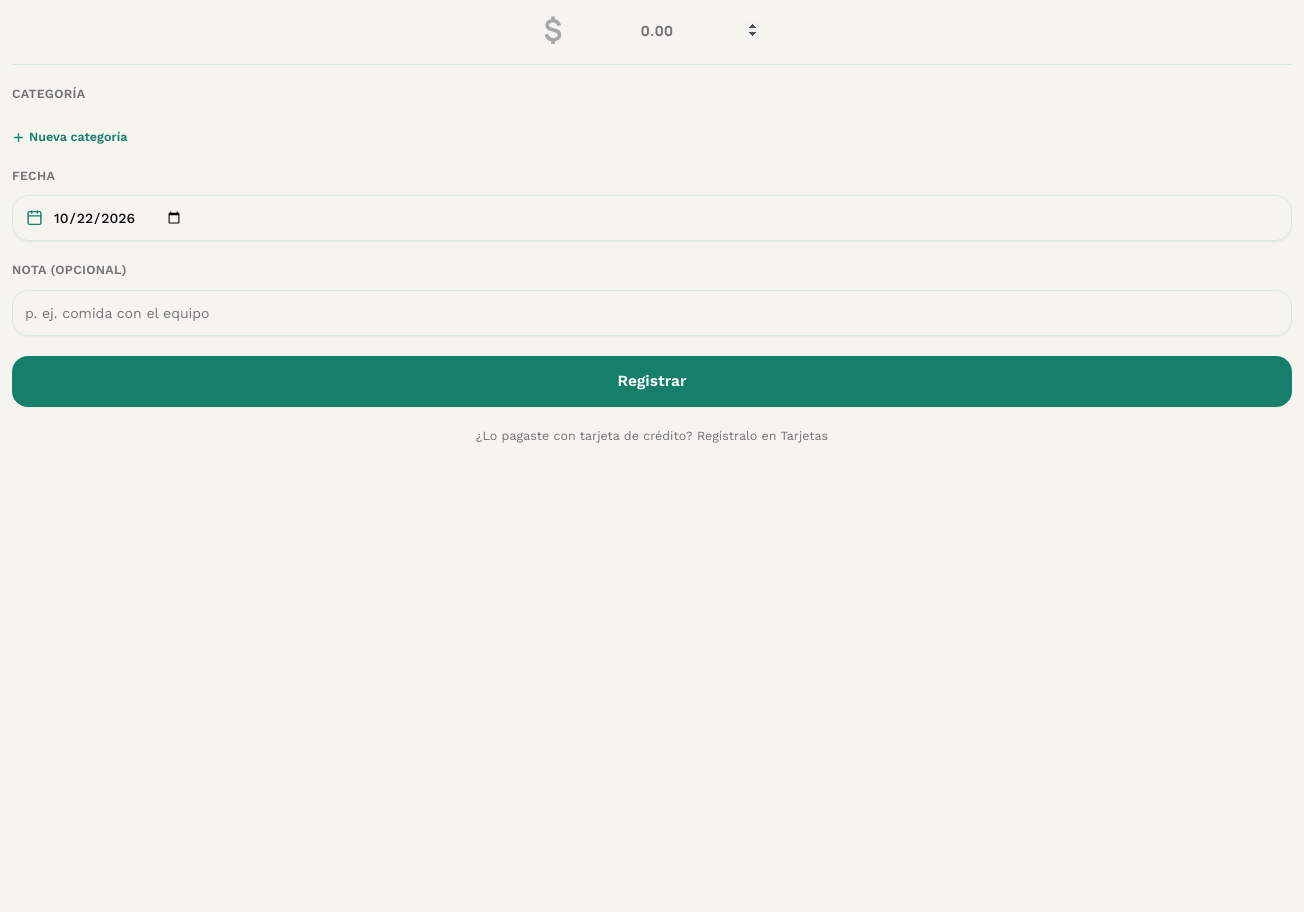
it: FormularioGasto — pista de la guía sobre los atajos › al guardar el atajo la pista se da por leída
This screenshot has width=1304, height=912.
Type "55" into the number field named "¿Cuánto gastaste?".
click(664, 30); type("55")  # box [568,20,760,40]
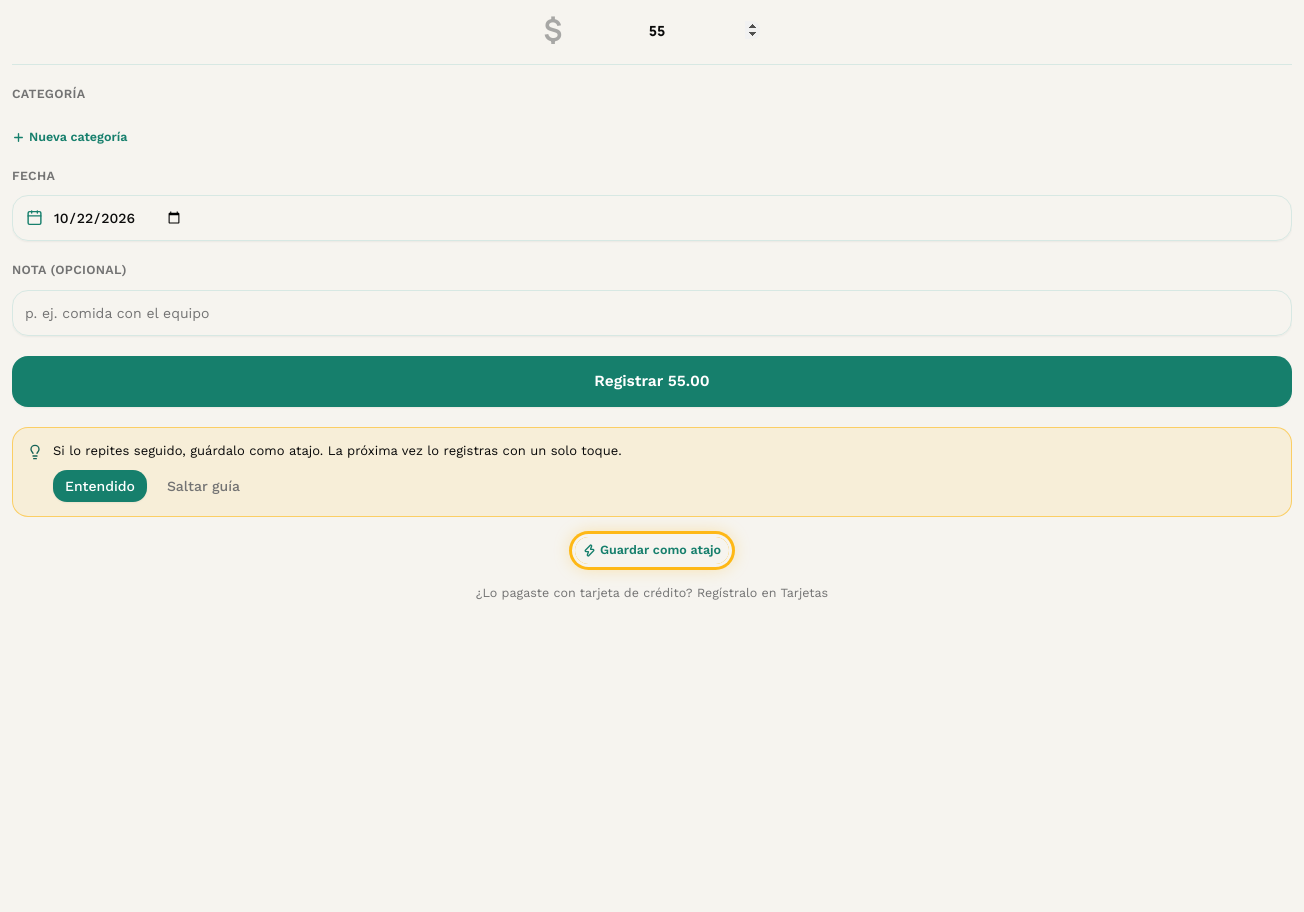
Click the button "Guardar como atajo".
click(652, 551)  # box [583,541,721,560]
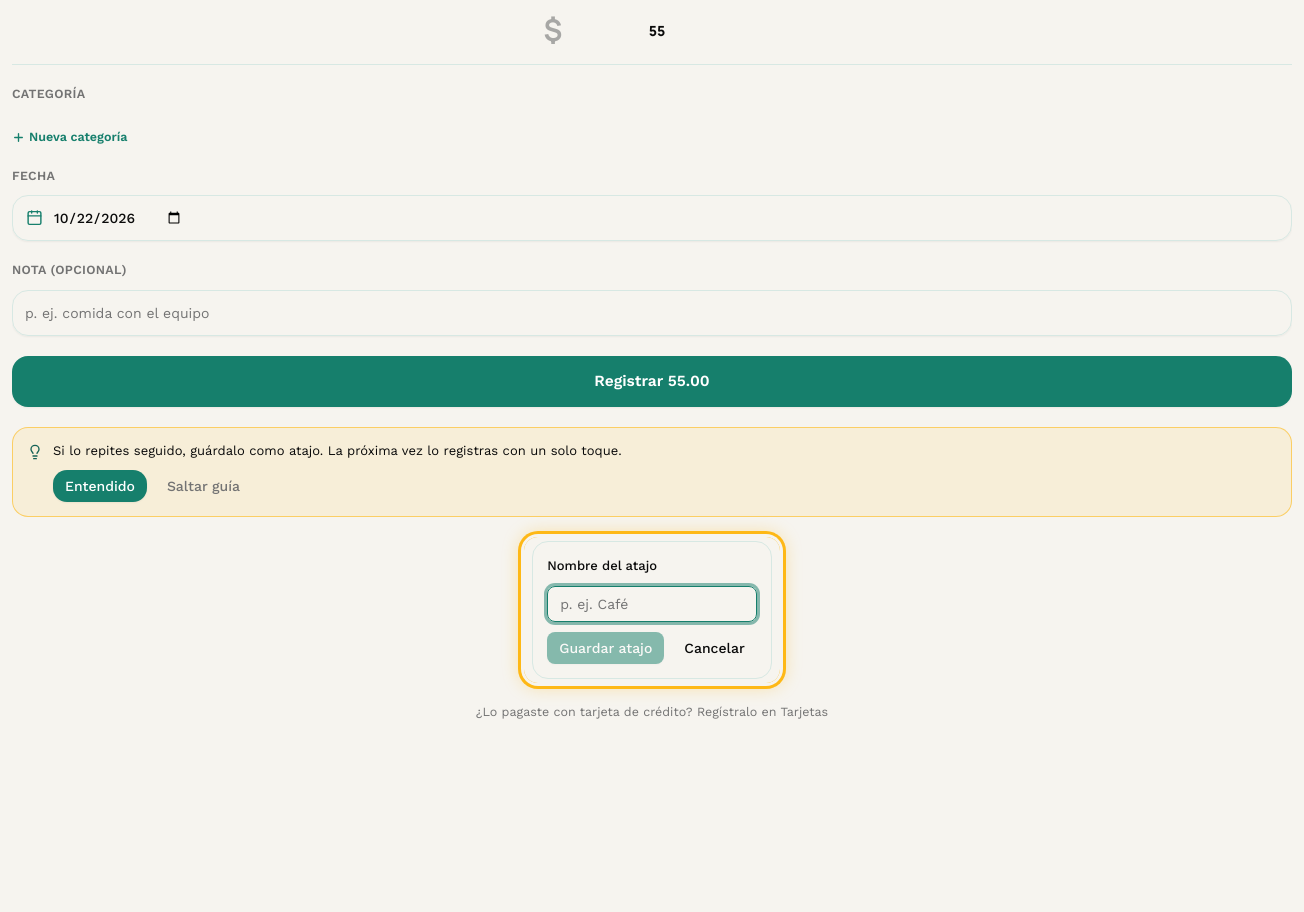
Type "Café" into the field labelled "Nombre del atajo".
click(652, 604); type("Café")  # box [547,586,757,622]
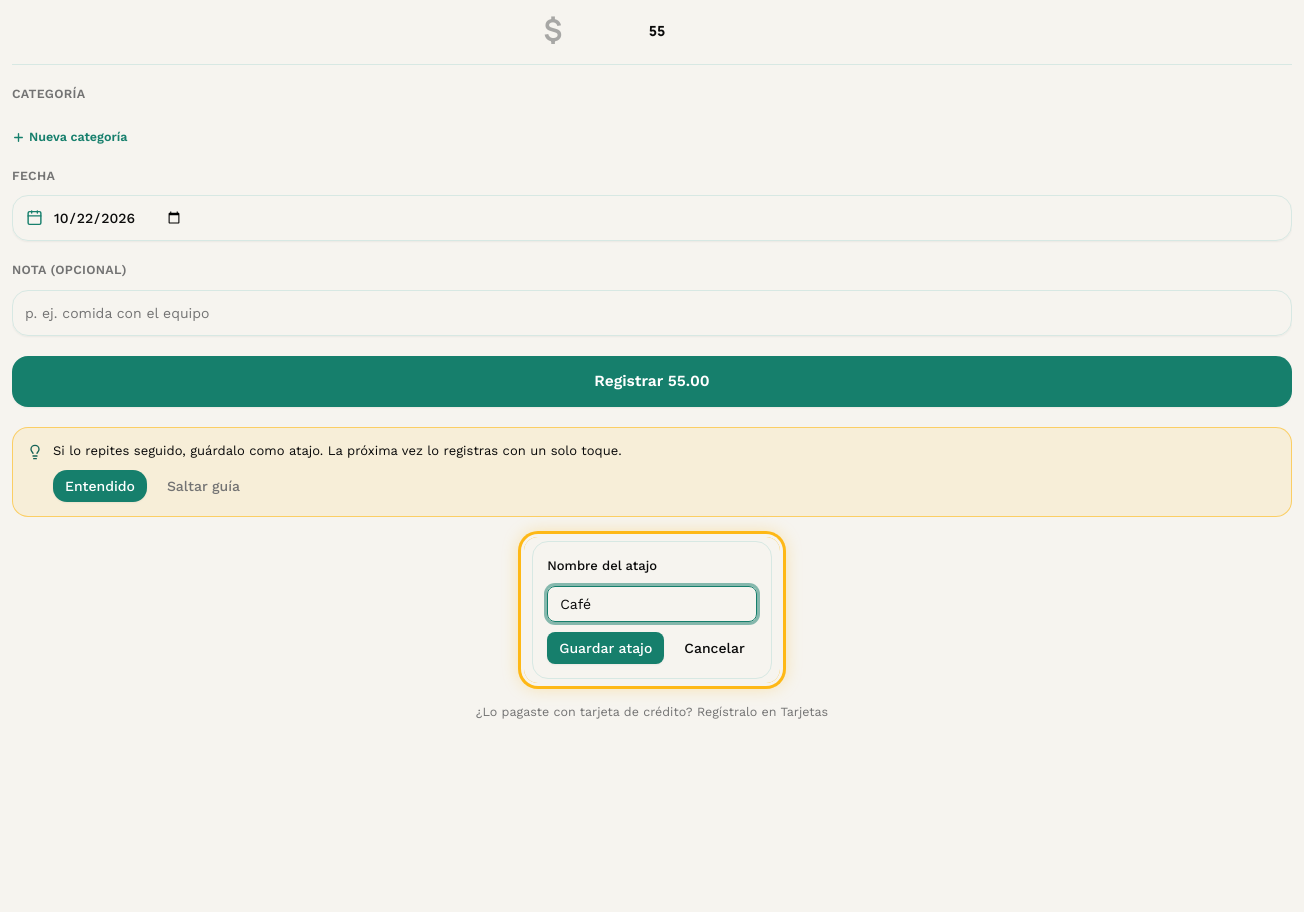
Click the button "Guardar atajo".
click(606, 648)  # box [547,632,664,664]
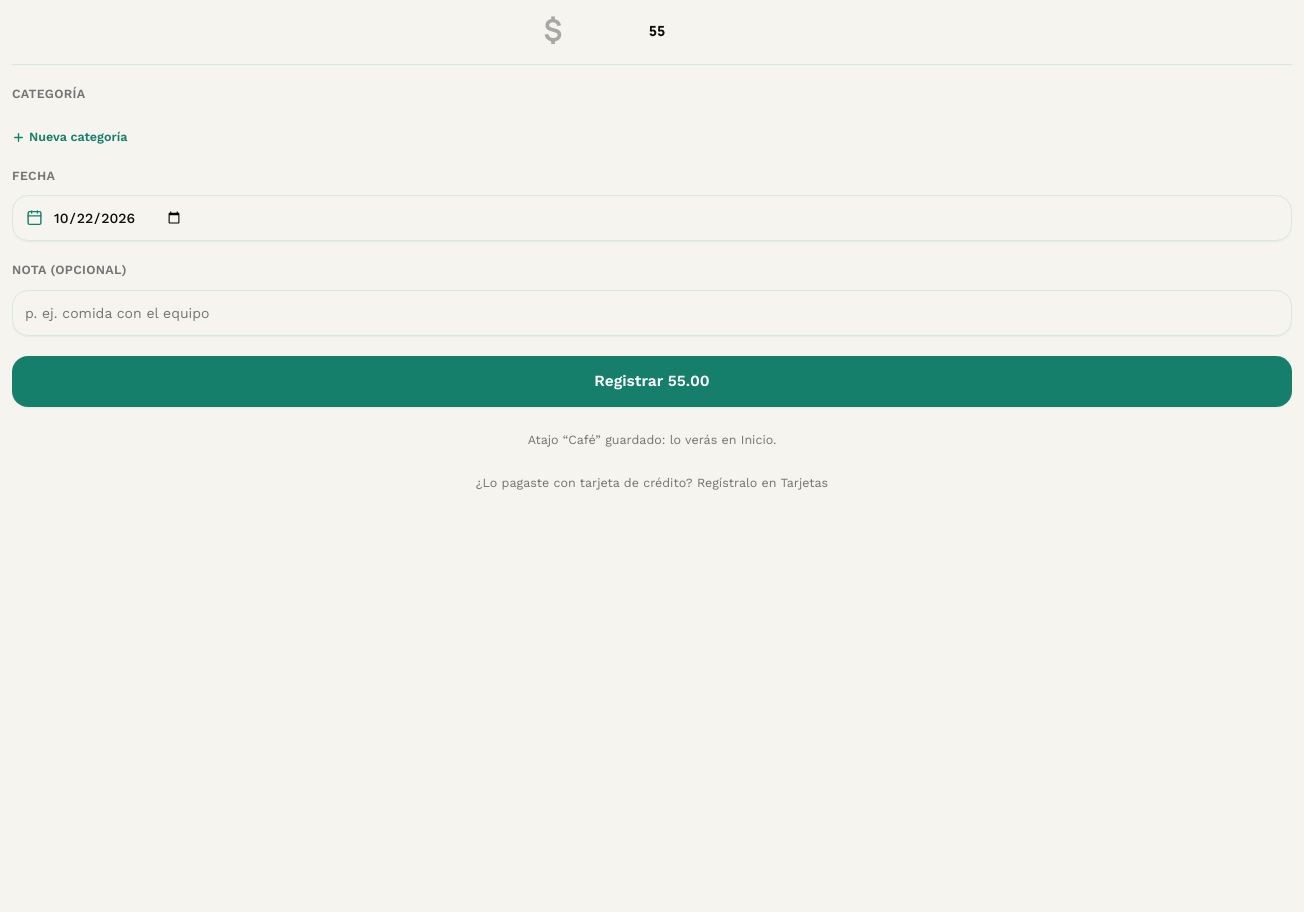
Now the text "Si lo repites seguido, guárdalo como atajo. La próxima vez lo registras con un solo toque." is gone
